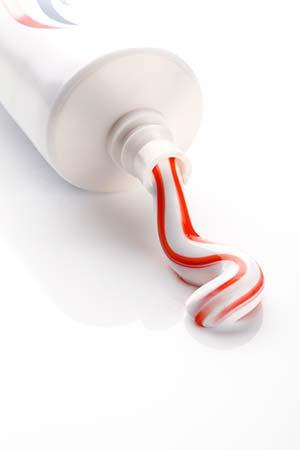toothpaste: (0, 0, 226, 207)
